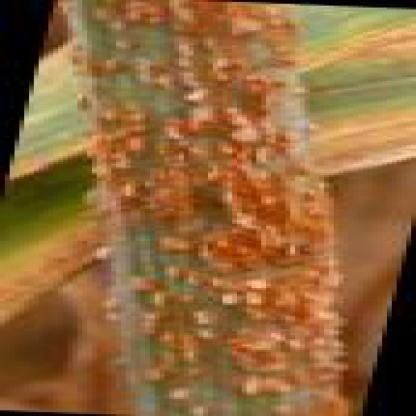wheat Stem Rust: (123, 214, 332, 415), (81, 0, 286, 108), (92, 115, 289, 204)
